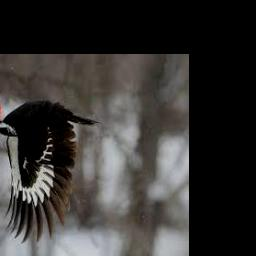Woodpecker: (0, 101, 98, 241)
